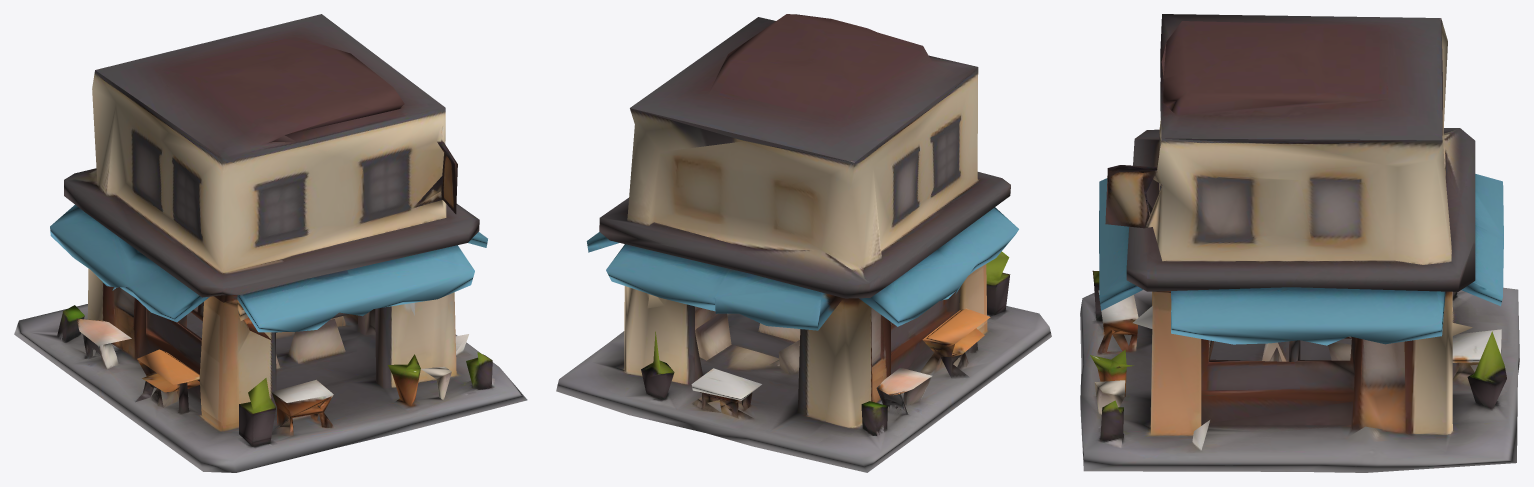
Rendered from cafebuilding.glb.
The picture shows the model from 3 angles, left to right: view 1: azimuth 30°, elevation 25°; view 2: azimuth 150°, elevation 25°; view 3: azimuth 270°, elevation 25°; orthographic projection. The views are drawn at different scales.
Visible parts, largest first — view 1: tripo_node_35b608bc-c248-45c7-b738-45e6e71db5ed; view 2: tripo_node_35b608bc-c248-45c7-b738-45e6e71db5ed; view 3: tripo_node_35b608bc-c248-45c7-b738-45e6e71db5ed.
Boxes of the visible parts, x1,y1,x2,y2 form: tripo_node_35b608bc-c248-45c7-b738-45e6e71db5ed: (14,14,527,472); tripo_node_35b608bc-c248-45c7-b738-45e6e71db5ed: (556,14,1051,472); tripo_node_35b608bc-c248-45c7-b738-45e6e71db5ed: (1080,14,1519,472).
Size of the model in its own units: 0.9139 by 0.8183 by 0.9787.
1 material, 1 textured.
